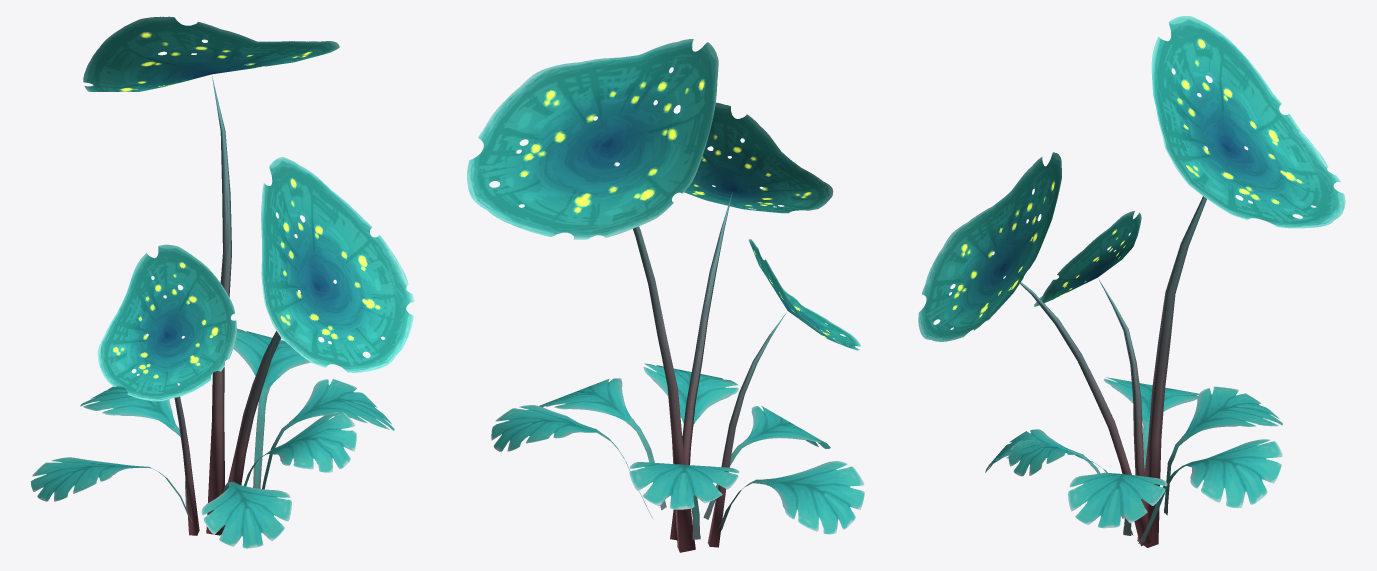
Rendered from SM_ENV_plant_ancient_13_02.fbx.
3 views of the same model, side by side, from view 1: azimuth 30°, elevation 25°; view 2: azimuth 150°, elevation 25°; view 3: azimuth 270°, elevation 25° (orthographic). The views are drawn at different scales.
Parts seen in each view (by area): view 1: SM_ENV_plant_ancient_13_02_LOD0; view 2: SM_ENV_plant_ancient_13_02_LOD0; view 3: SM_ENV_plant_ancient_13_02_LOD0.
Part boxes in pixels (box(x1,y1,x2,y2)): SM_ENV_plant_ancient_13_02_LOD0: box(30, 16, 414, 548); SM_ENV_plant_ancient_13_02_LOD0: box(467, 39, 864, 552); SM_ENV_plant_ancient_13_02_LOD0: box(918, 16, 1345, 547).
Bounding box in the file's own units: 38.16 × 55.13 × 44.12.
